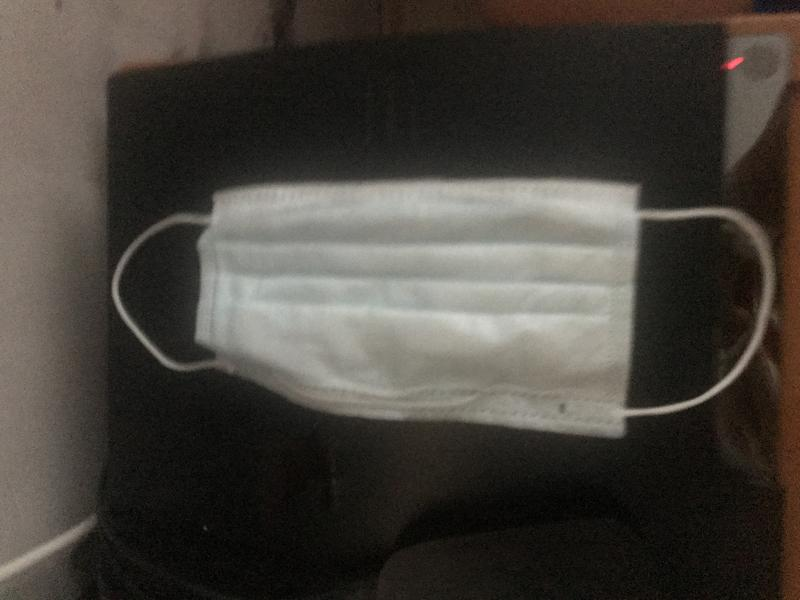medical_mask: (112, 183, 772, 438)
